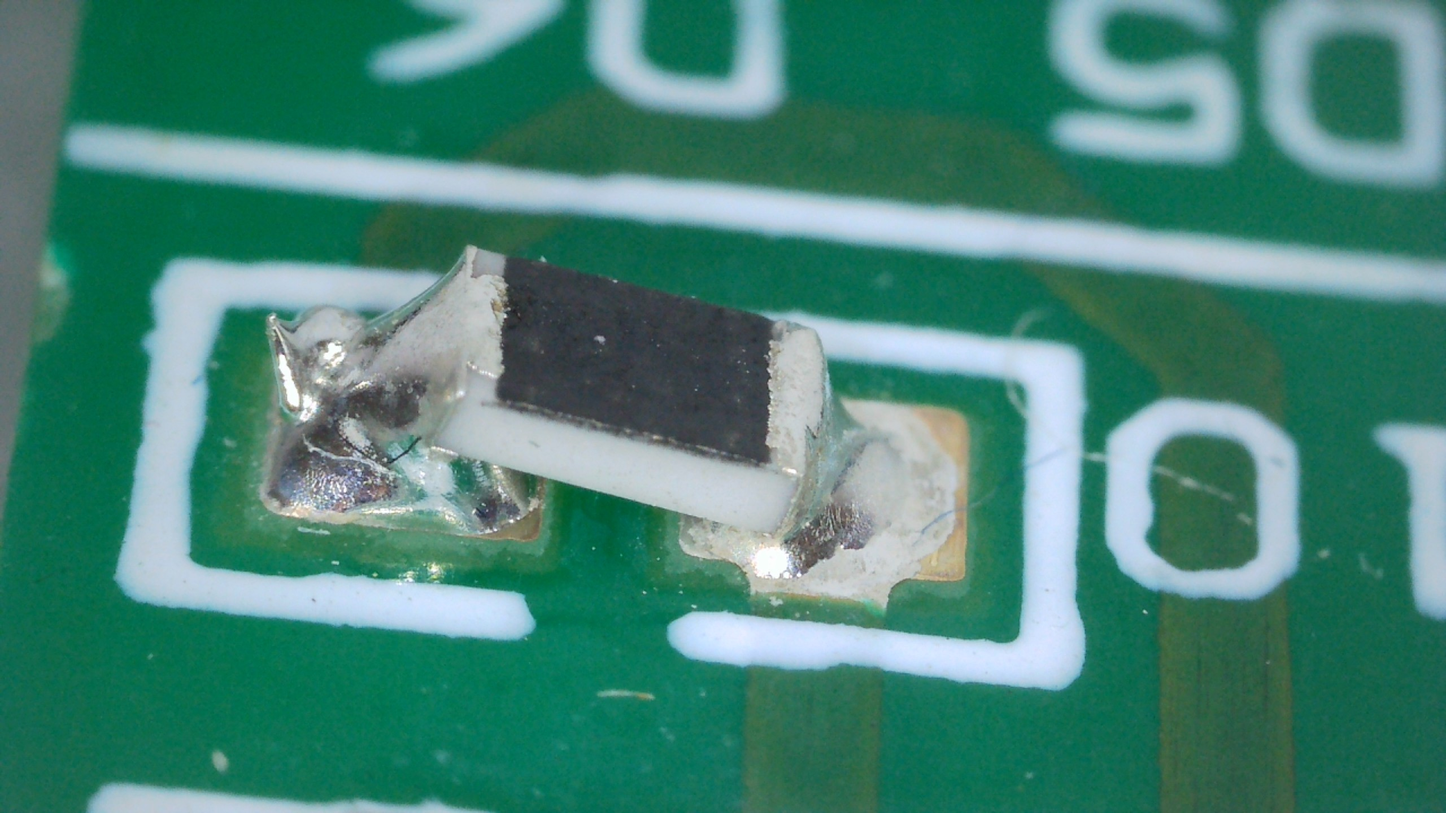NG: (264, 246, 534, 534), (266, 307, 365, 427)
OK: (699, 321, 953, 612)
